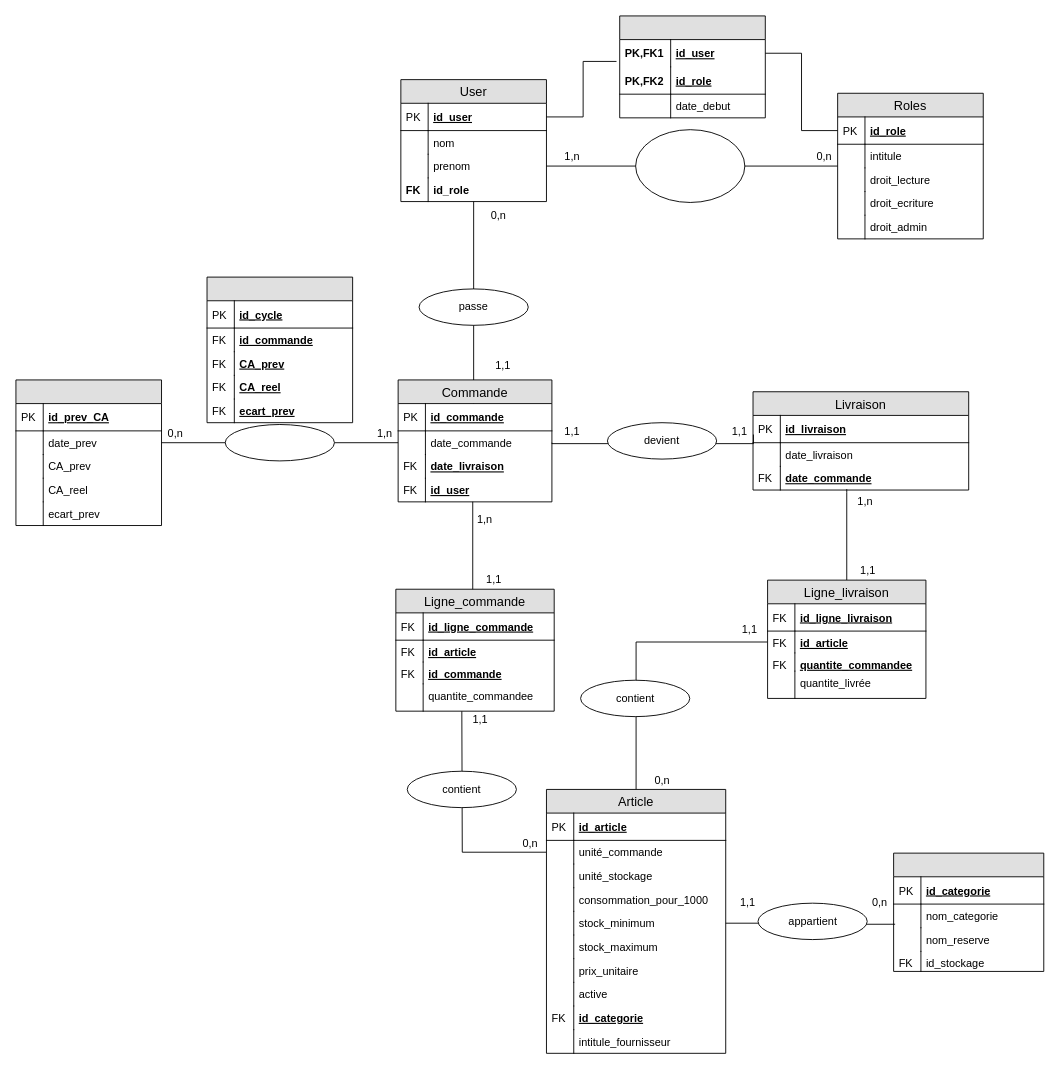
The diagram is 1060 pixels wide and 1072 high, and some of its shapes have lost their labels. Here are the shapes that lost their labels. From the top down, the box of each, then its label:
(619, 15, 765, 118): Poste
(635, 129, 745, 202): est -------------------------- date début date fin
(206, 276, 353, 423): Cycle commande
(15, 379, 162, 526): € CA
(224, 424, 334, 461): définit
(893, 852, 1044, 971): Catégorie
